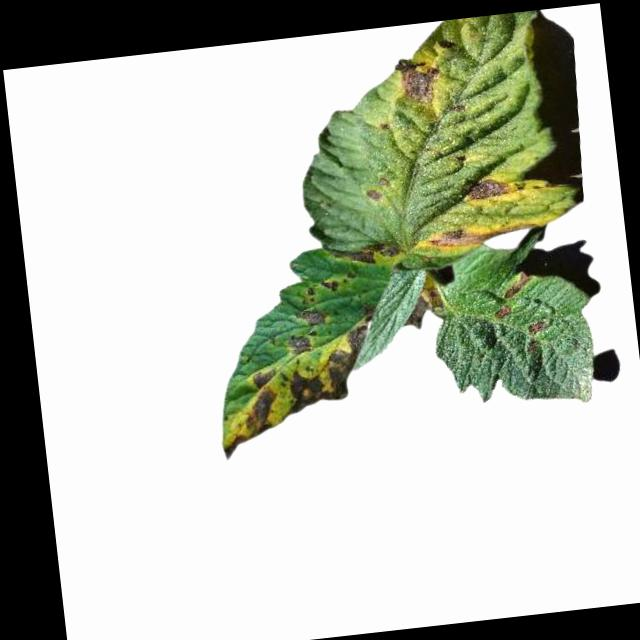Early_blight: (208, 314, 396, 463), (427, 219, 539, 254), (396, 52, 445, 110), (399, 284, 442, 336), (343, 239, 399, 271), (462, 172, 521, 201), (503, 272, 536, 300), (286, 332, 313, 358), (299, 305, 329, 328), (364, 184, 386, 204), (527, 318, 549, 337), (494, 304, 512, 323), (300, 286, 317, 305), (322, 278, 339, 294)
